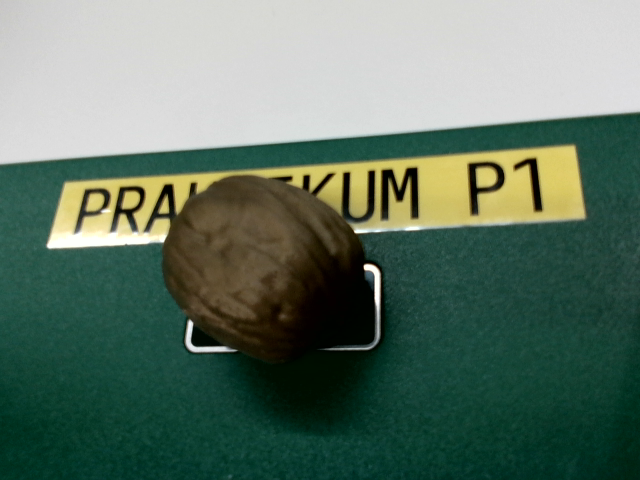walnut: (131, 139, 389, 390)
